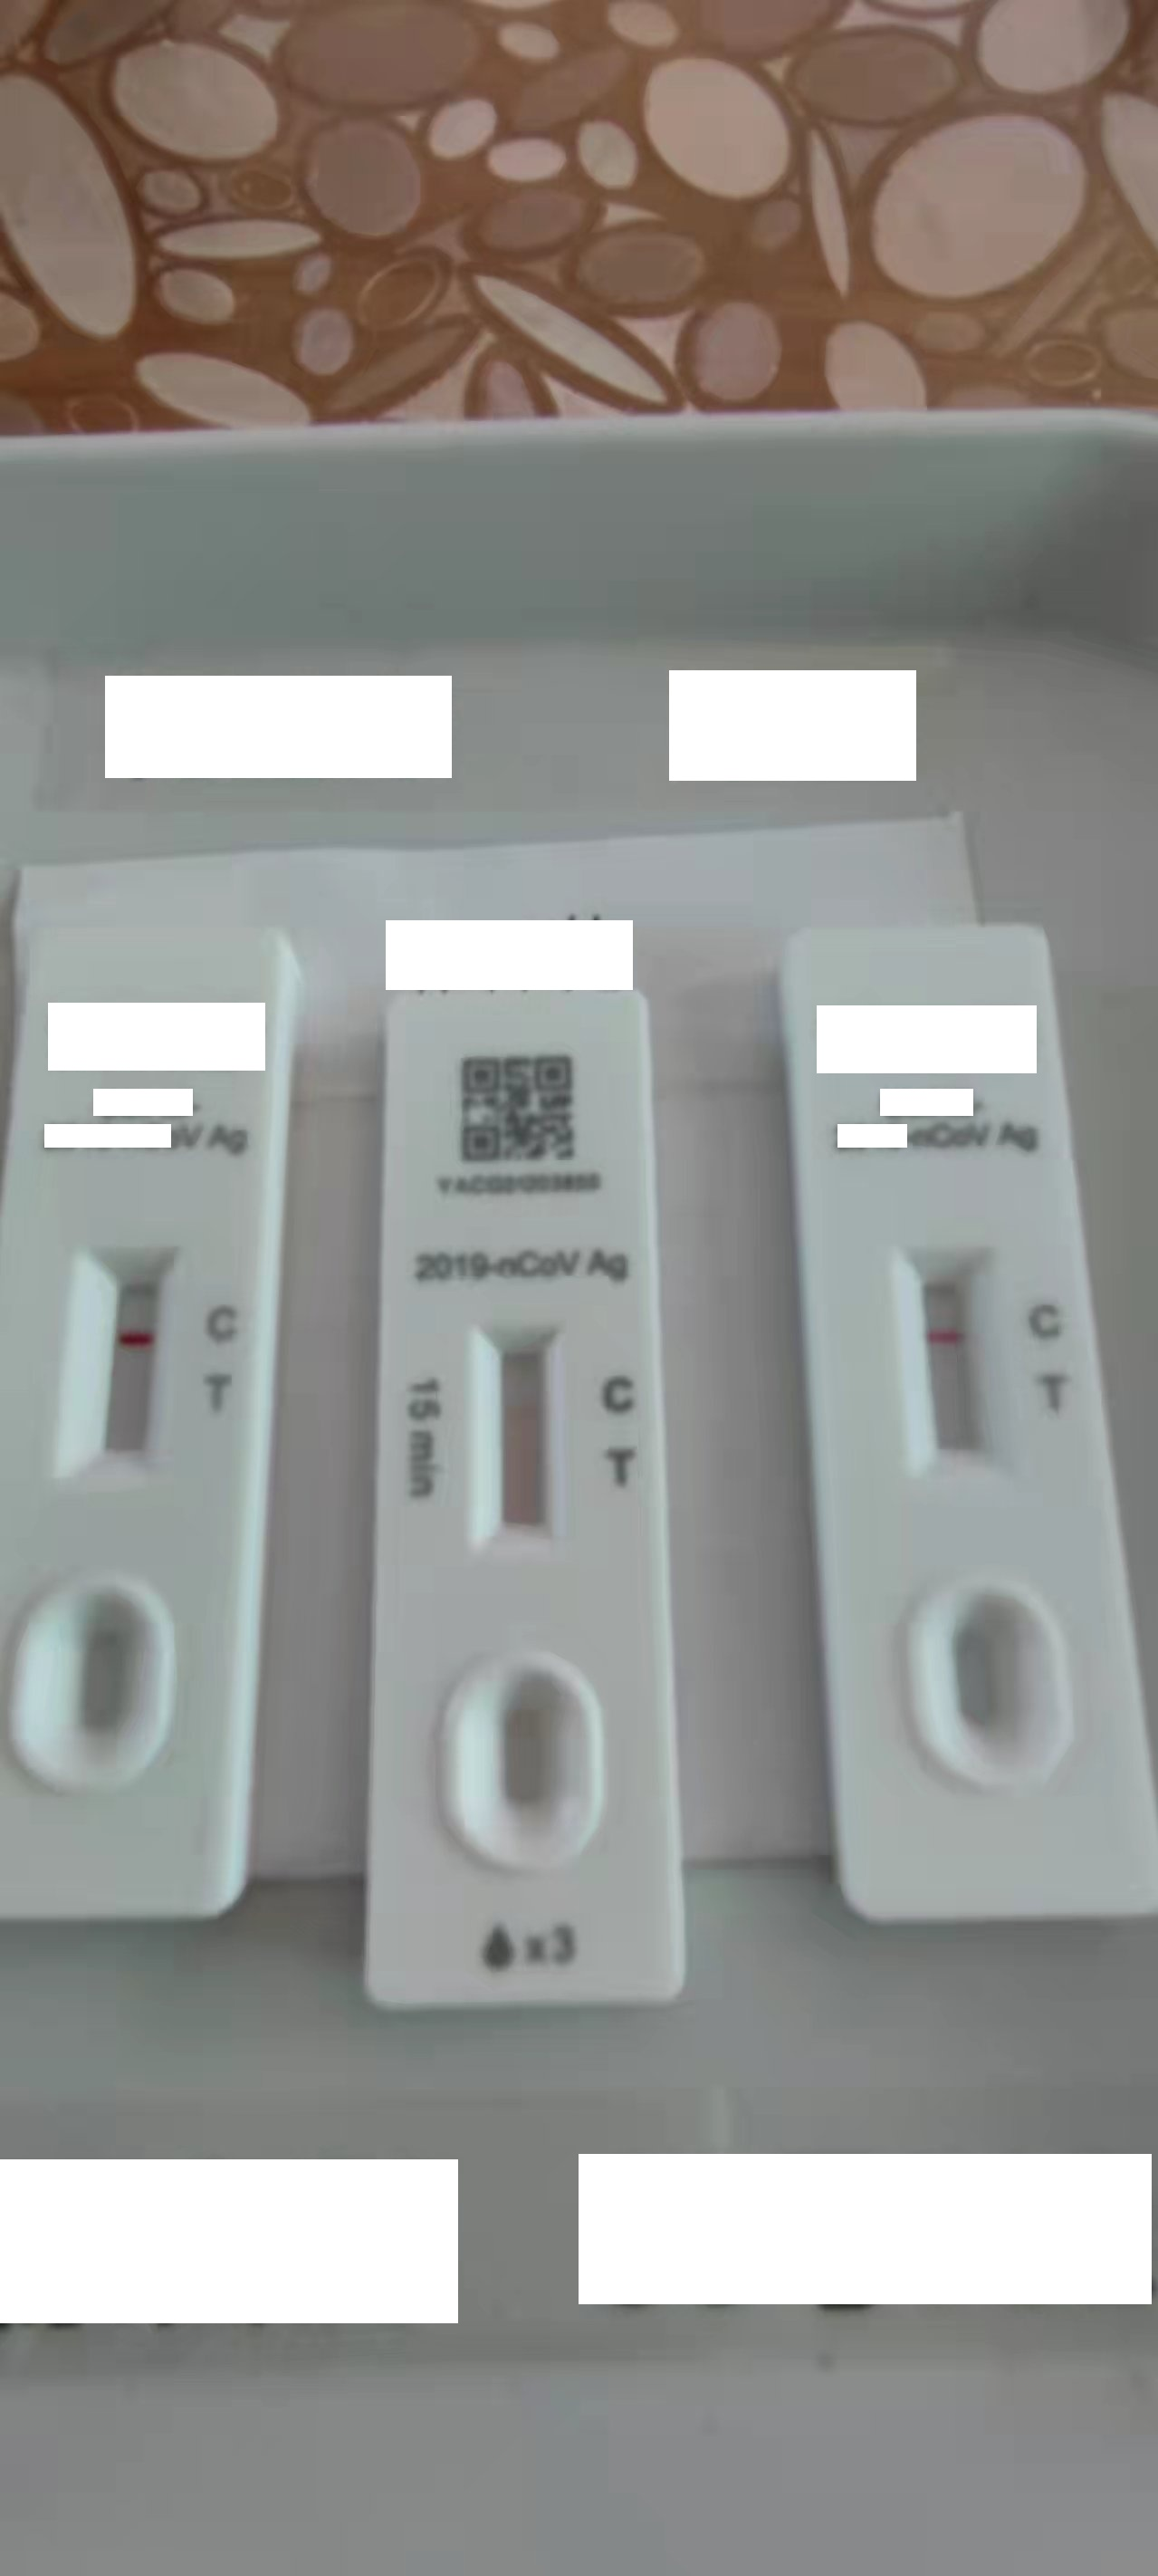negative: (64, 1242, 179, 1480), (892, 1247, 1002, 1480), (470, 1322, 565, 1549)
